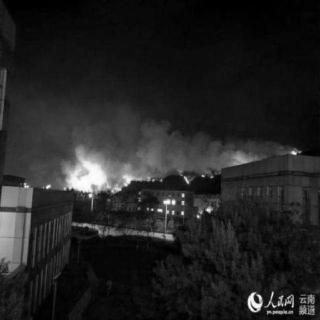Fire: (55, 140, 133, 197)
Smoke: (45, 80, 292, 168)
